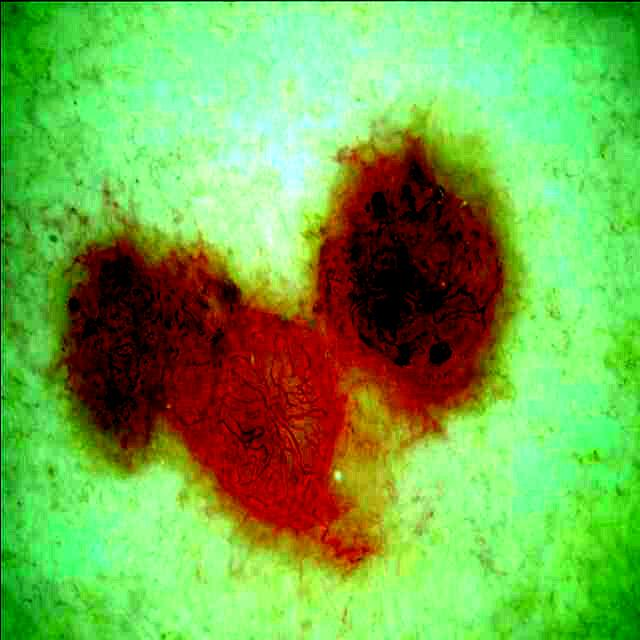BCC: (65, 243, 337, 517), (323, 155, 501, 383)
